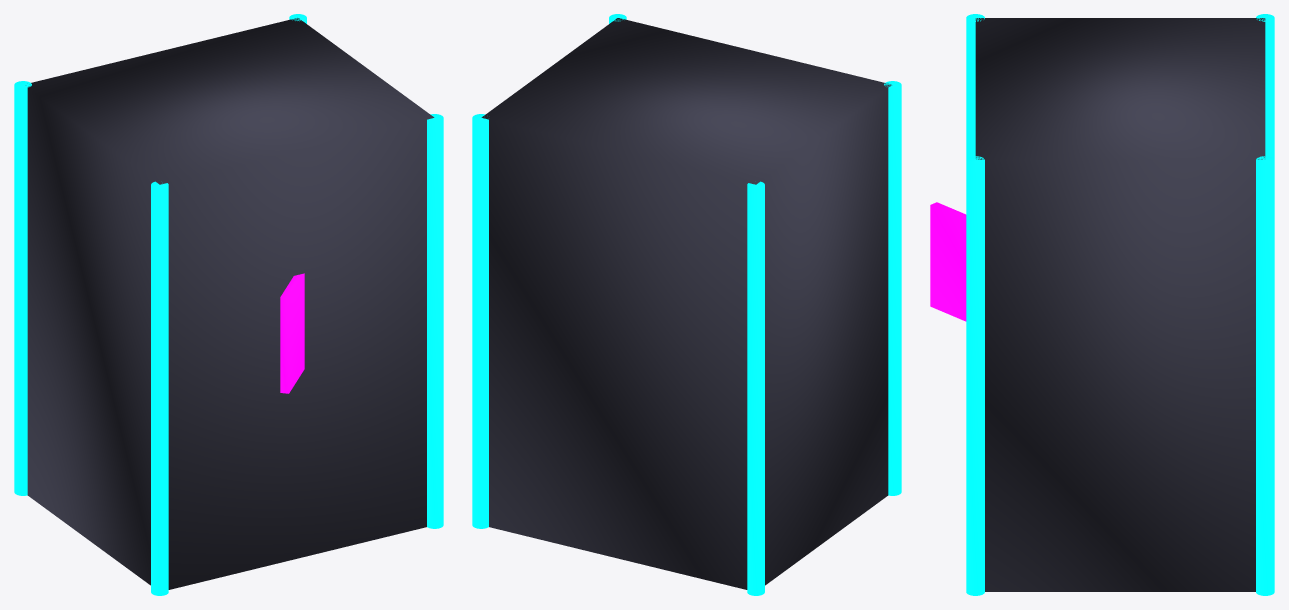
Rendered from ssr_glowing_labubu.glb.
3 views of the same model, side by side, from view 1: azimuth 30°, elevation 25°; view 2: azimuth 150°, elevation 25°; view 3: azimuth 270°, elevation 25° (orthographic). The views are drawn at different scales.
Parts seen in each view (by area): view 1: SSRGlowingLabubu; view 2: SSRGlowingLabubu; view 3: SSRGlowingLabubu.
Boxes of the visible parts, x1,y1,x2,y2 form: SSRGlowingLabubu: (14, 14, 443, 595); SSRGlowingLabubu: (472, 14, 901, 595); SSRGlowingLabubu: (930, 14, 1274, 595).
Size of the model in its own units: 0.76 by 1.02 by 0.7369.
